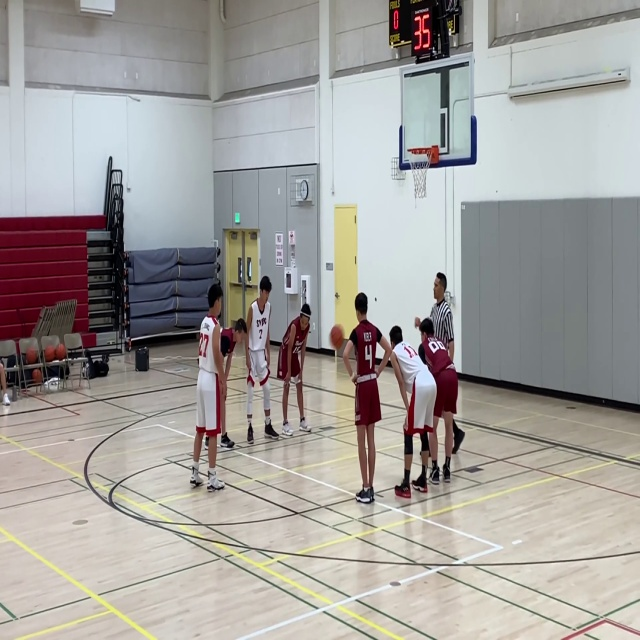Basketball: (330, 324, 343, 348), (26, 347, 38, 364), (55, 344, 67, 360), (44, 345, 55, 362), (32, 369, 42, 383)
